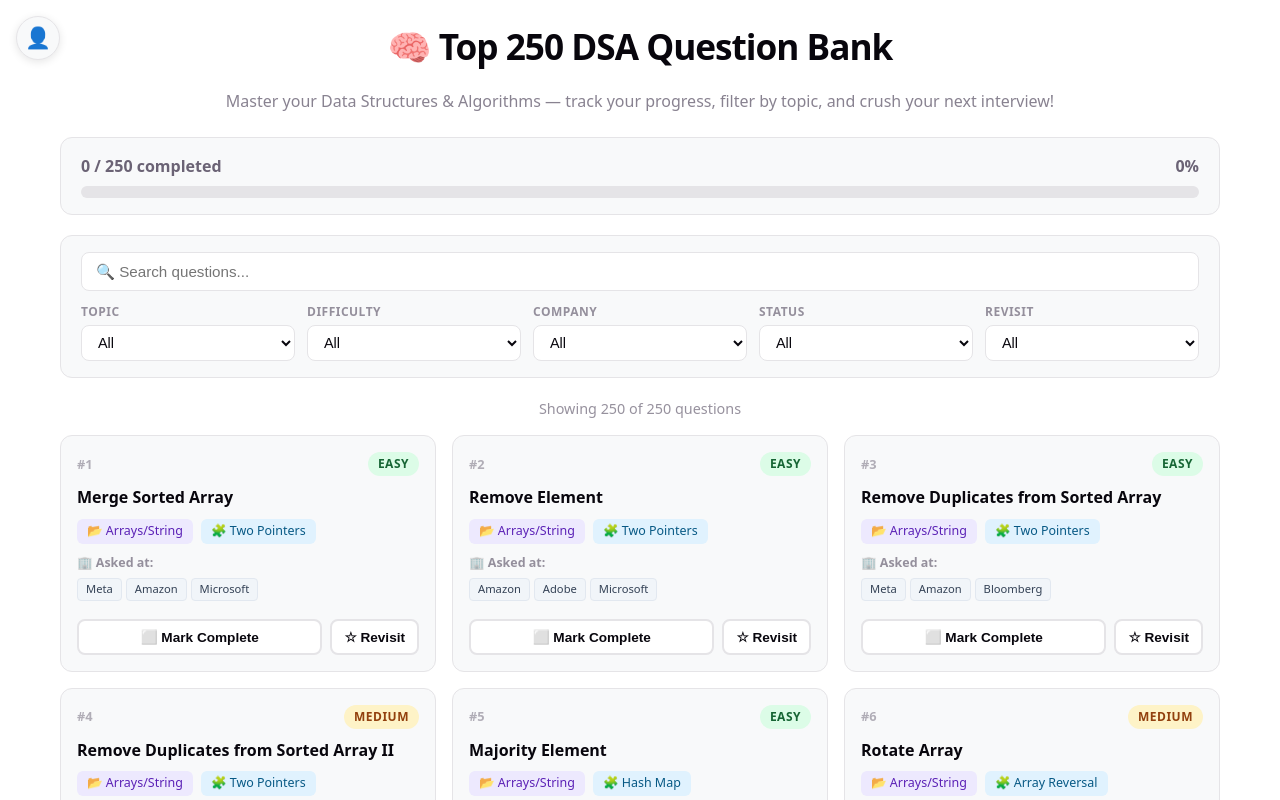
Scenario: App › toggles question completion
This screenshot has width=1280, height=800.
Click the button "⬜ Mark Complete" below "Merge Sorted Array" at (200, 637), box [77,619,322,655]
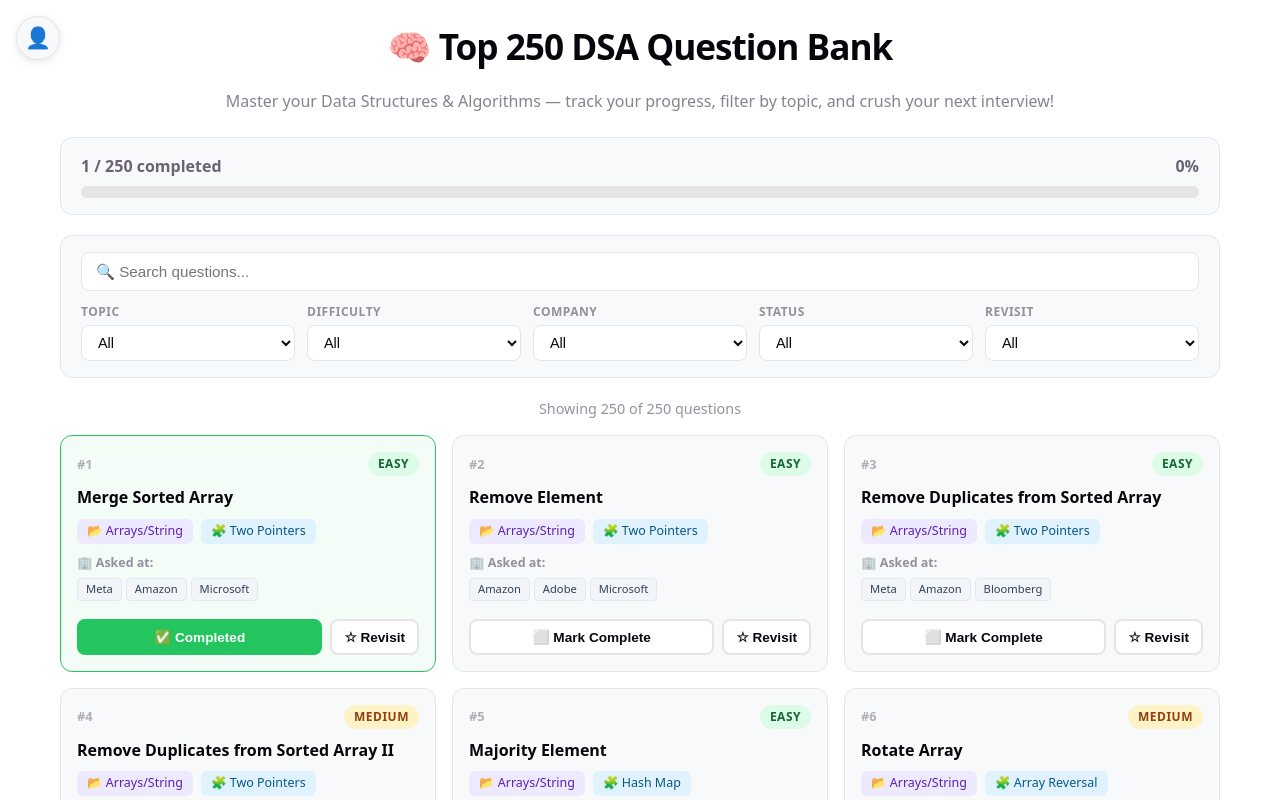
Check: the text "1 / 250 completed" is shown, box [81,154,222,178]
